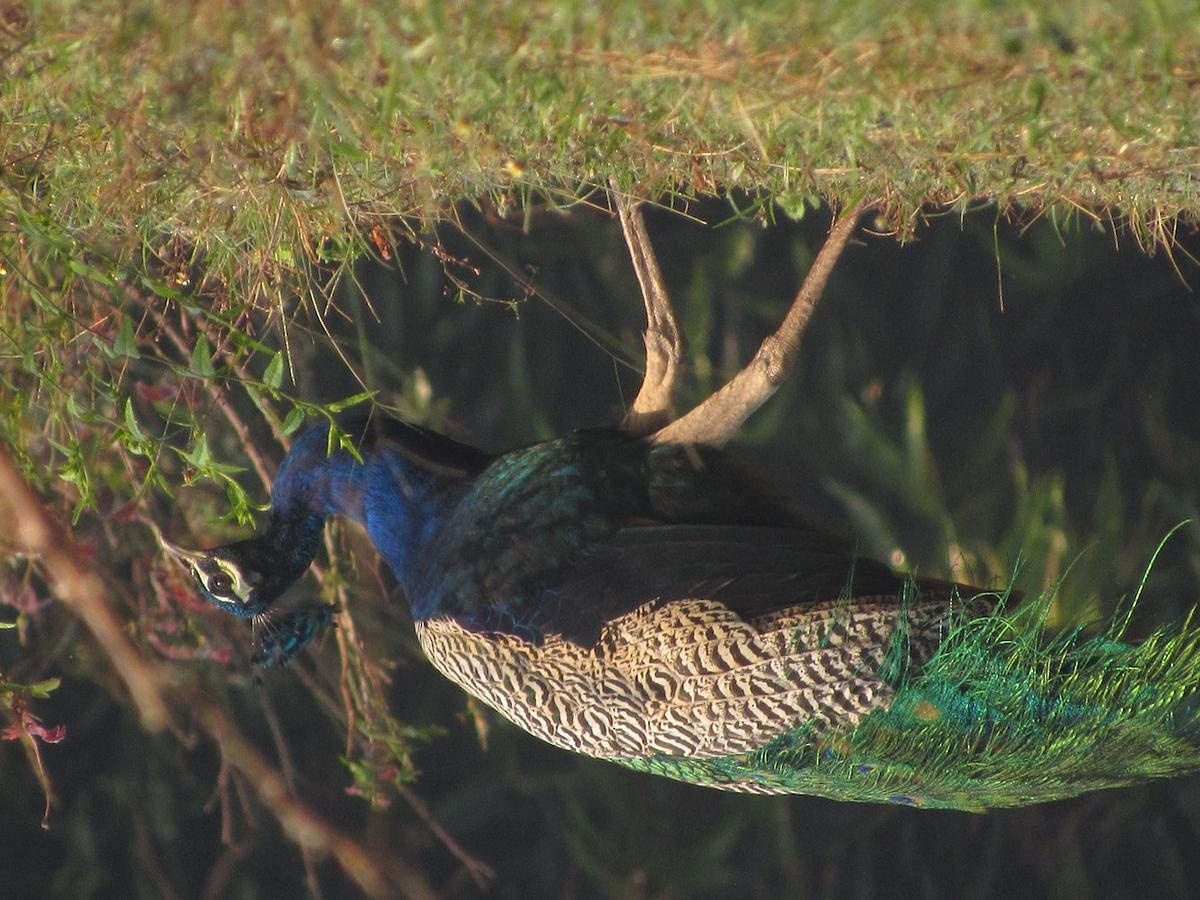peacock: (215, 234, 1048, 831)
